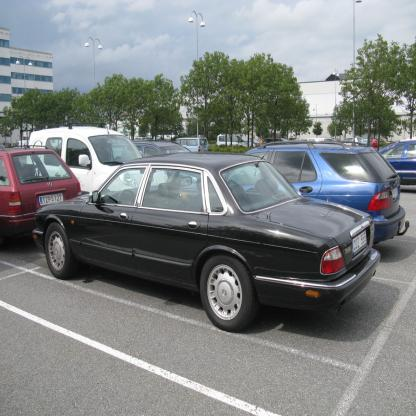Car: (35, 156, 373, 330), (219, 139, 411, 251), (1, 141, 88, 239), (118, 139, 209, 194), (380, 140, 416, 188)
